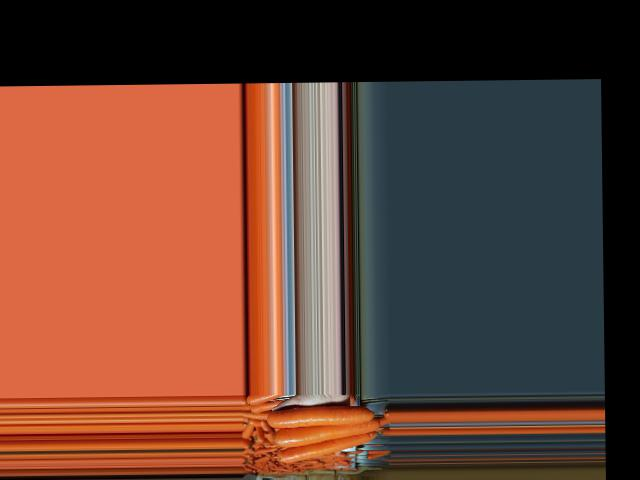carrot: (265, 406, 377, 434)
